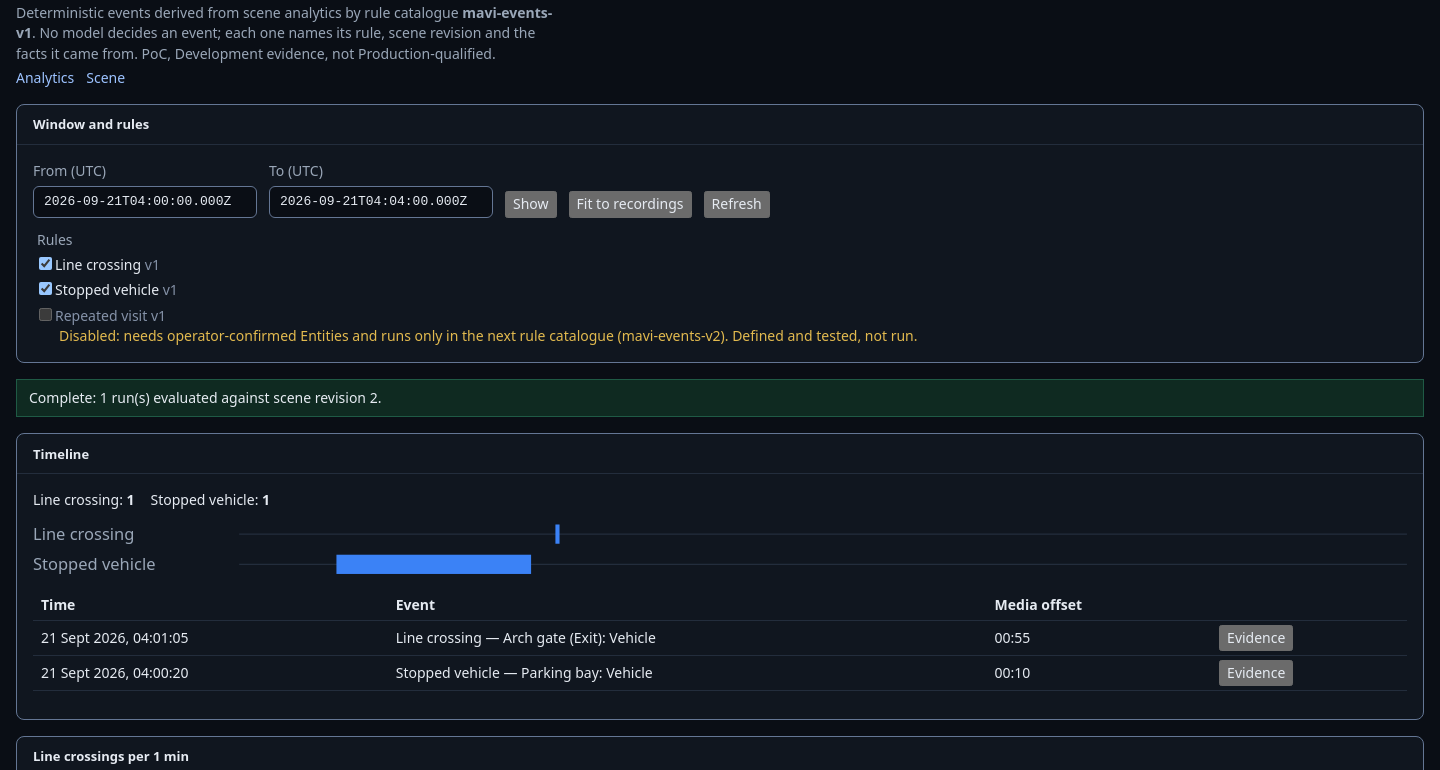
Test: EventsPage › drills through to the provenance and to Review at the event instant against the event's revision
Click the button "Evidence" in the row of "21 Sept 2026, 04:00:20".
click(1256, 673)  # box [1219, 660, 1293, 686]
(page scrolled)
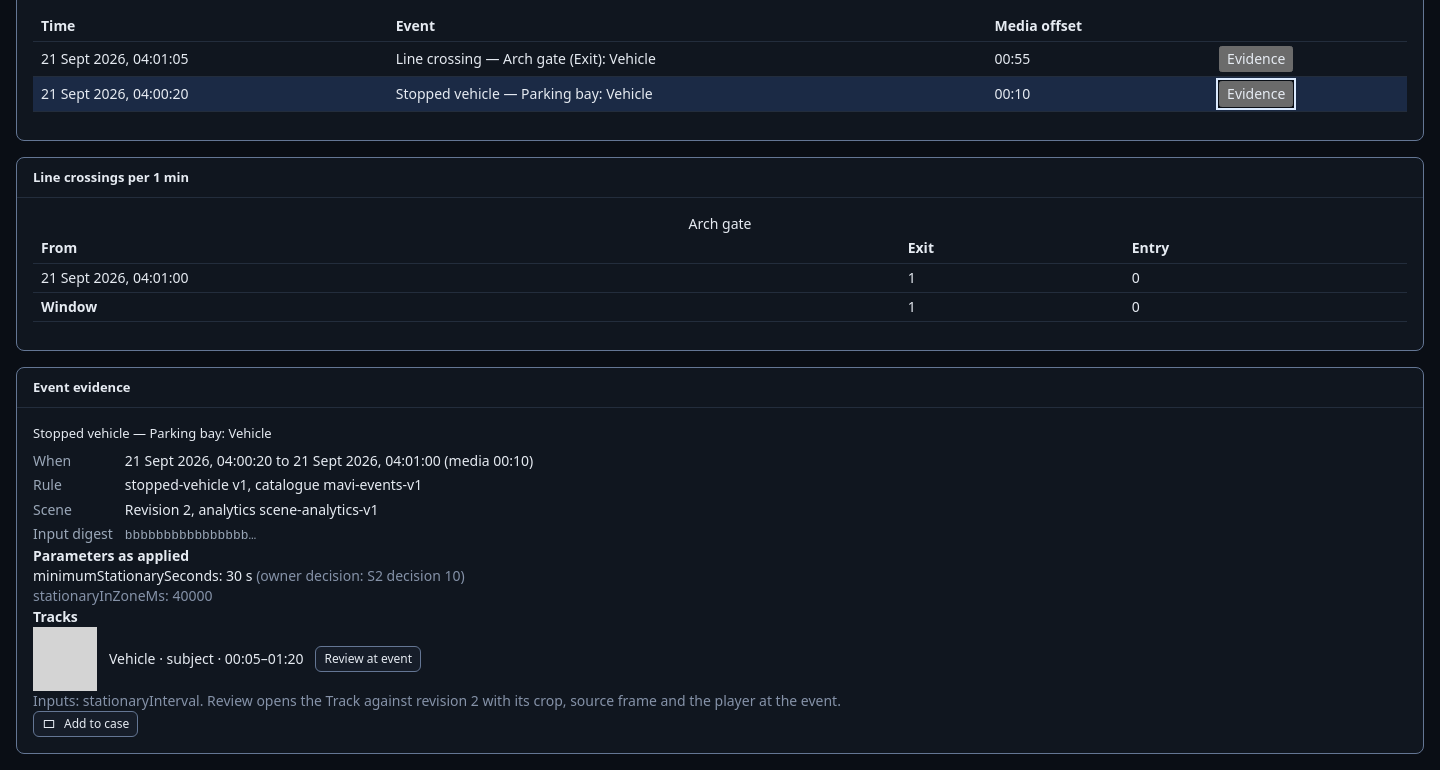
Check: the list item "minimumStationarySeconds: 30 s" is shown, box [33, 566, 465, 585]
Check: the text "(owner decision: S2 decision 10)" is shown, box [256, 566, 465, 585]
Check: the text "Revision 2, analytics scene-analytics-v1" is shown, box [125, 500, 378, 519]
